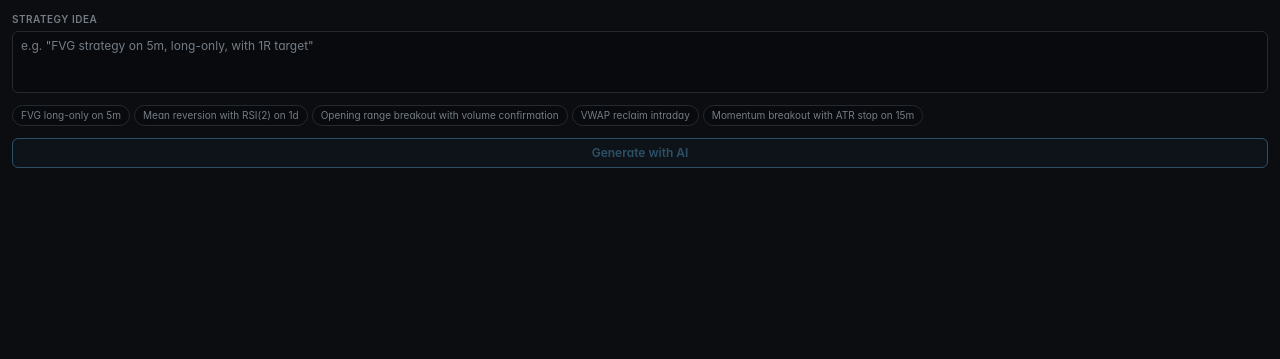
Test: <AIPromptTab /> › Discard button removes the result card
Type "FVG strategy on 5m long-only" into the text box named "strategy idea prompt" at (640, 62), box [12,31,1268,93]
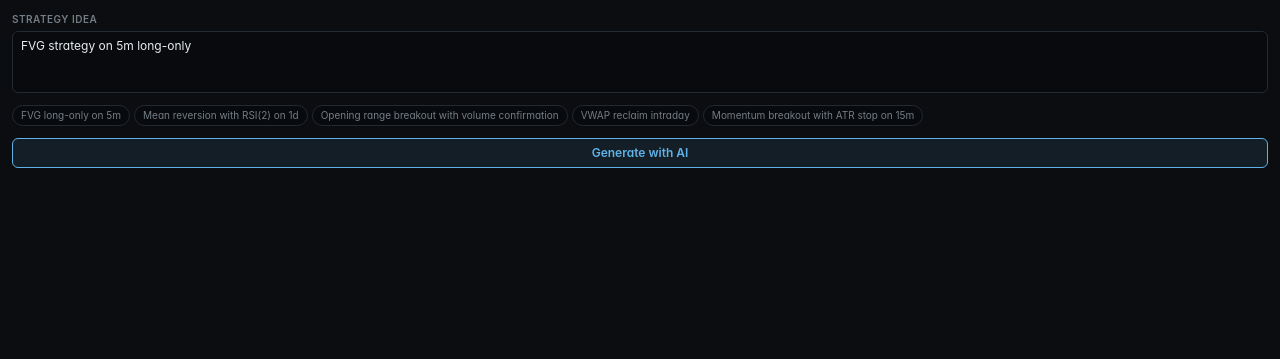
Click the button with test id "ai-generate-btn" at (640, 153), box [12,138,1268,168]
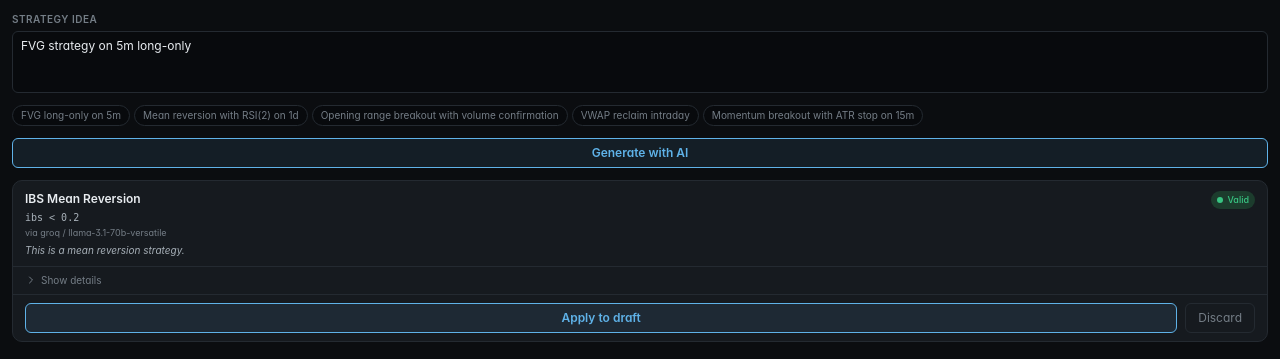
Expected: the element with test id "ai-result-card" is shown, [12,180,1268,342]
Click the button with test id "ai-discard-btn" at (1220, 318), box [1185,302,1255,332]
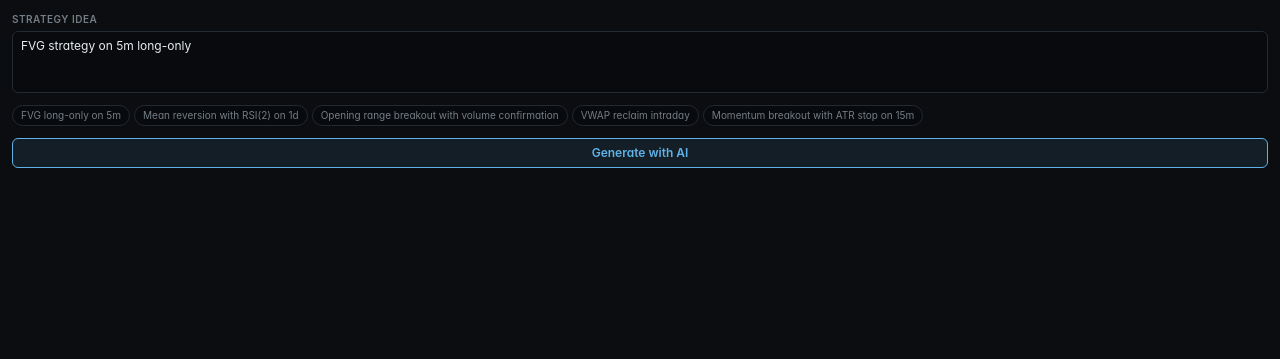
Expected: the element with test id "ai-result-card" is gone
